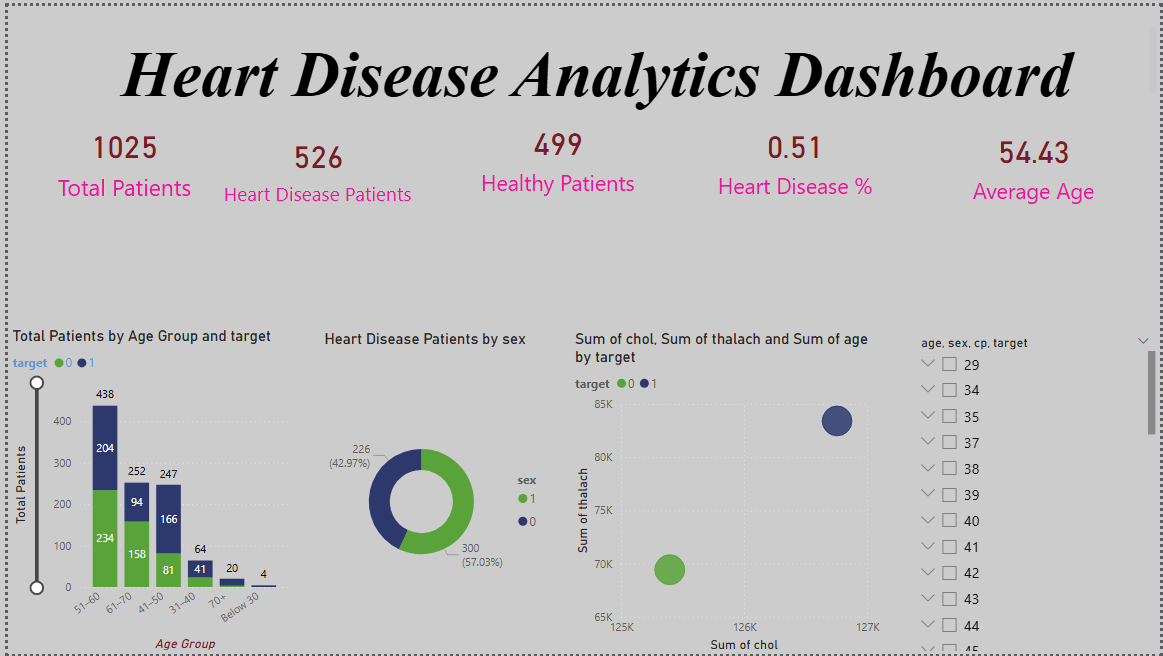

The dashboard page shown, as its layout file describes it:
{"tool":"powerbi","page":{"name":"Page 1","canvas":[1280,720],"ordinal":0},"visuals":[{"type":"card","fields":{"Values":["heart.Total Patients"]},"box":[30.5,102.3,198.1,139.3],"z":0},{"type":"card","fields":{"Values":["heart.Heart Disease Patients"]},"box":[228.6,108.8,230.7,141.5],"z":1000},{"type":"card","fields":{"Values":["heart.Healthy Patients"]},"box":[511.6,91.4,198.1,150.2],"z":2000},{"type":"card","fields":{"Values":["heart.Heart Disease %"]},"box":[775,95.8,198.1,150.2],"z":3000},{"type":"card","fields":{"Values":["heart.Average Age"]},"box":[1040.5,102.3,198.1,148],"z":4000},{"type":"columnChart","fields":{"Category":["heart.Age Group"],"Series":["heart.target"],"Y":["heart.Total Patients"]},"box":[0,242.4,318.6,478],"z":5000},{"type":"donutChart","fields":{"Y":["heart.Heart Disease Patients"],"Category":["heart.sex"]},"box":[345.8,249.2,266.1,471.2],"z":6000},{"type":"scatterChart","fields":{"X":["Sum(heart.chol)"],"Y":["Sum(heart.thalach)"],"Series":["heart.target"],"Size":["Sum(heart.age)"]},"box":[625.4,249.2,347.5,471.2],"z":7000},{"type":"slicer","fields":{"Values":["heart.age","heart.sex","heart.cp","heart.target"]},"box":[1001.7,249.2,278,471.2],"z":8000},{"type":"textbox","box":[19.4,16.4,1261.2,103],"z":9000}]}

Visuals, with their boxes in screenshot pixels (x1, y1, x2, y2), scaled from the page's 1280x720 canvas onto the 1163x656 screenshot:
card - heart.Total Patients: x1=28, y1=93, x2=208, y2=220
card - heart.Heart Disease Patients: x1=208, y1=99, x2=417, y2=228
card - heart.Healthy Patients: x1=465, y1=83, x2=645, y2=220
card - heart.Heart Disease %: x1=704, y1=87, x2=884, y2=224
card - heart.Average Age: x1=945, y1=93, x2=1125, y2=228
columnChart - heart.Age Group x heart.target: x1=0, y1=221, x2=289, y2=655
donutChart - heart.Heart Disease Patients x heart.sex: x1=314, y1=227, x2=556, y2=655
scatterChart - Sum(heart.chol) x Sum(heart.thalach): x1=568, y1=227, x2=884, y2=655
slicer - heart.age x heart.sex: x1=910, y1=227, x2=1162, y2=655
textbox: x1=18, y1=15, x2=1162, y2=109
